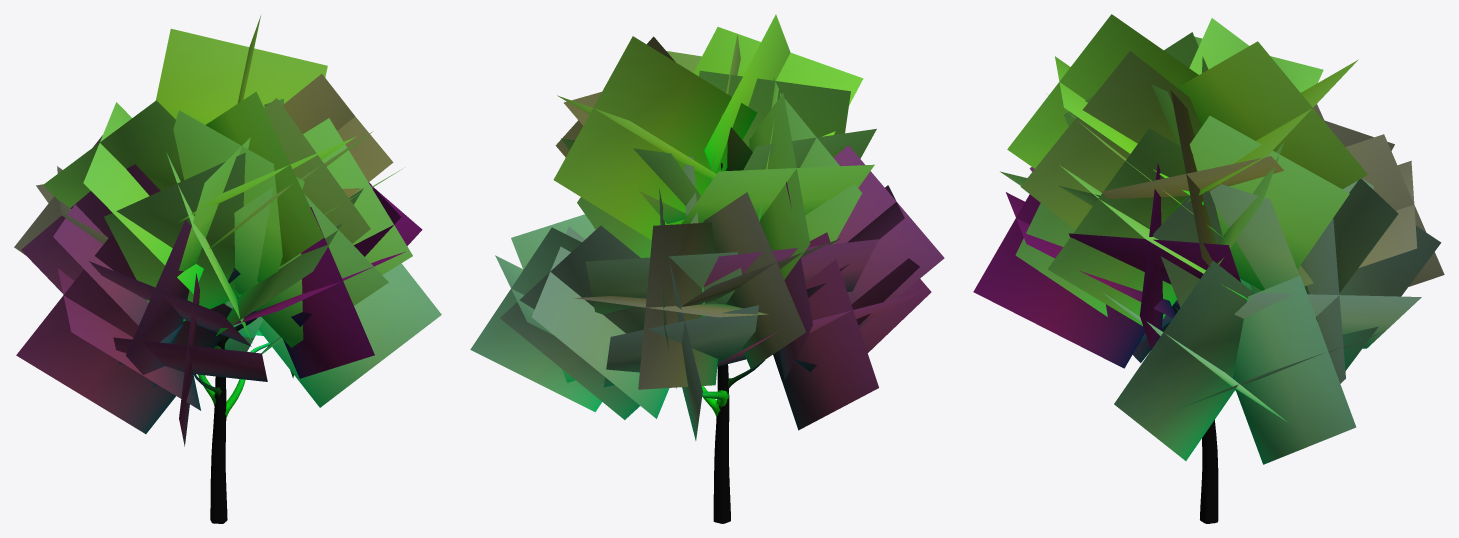
File: URP_P12_Tree_13_LOD_1.fbx
3 views of the same model, side by side, from view 1: azimuth 30°, elevation 25°; view 2: azimuth 150°, elevation 25°; view 3: azimuth 270°, elevation 25° (orthographic). The views are drawn at different scales.
Visible parts, largest first — view 1: Tree_13_LOD_1; view 2: Tree_13_LOD_1; view 3: Tree_13_LOD_1.
Boxes of the visible parts, box(x1,y1,x2,y2) form: Tree_13_LOD_1: box(14, 15, 441, 523); Tree_13_LOD_1: box(470, 14, 944, 523); Tree_13_LOD_1: box(973, 14, 1444, 523).
Bounding box in the file's own units: 182 × 219 × 182.
